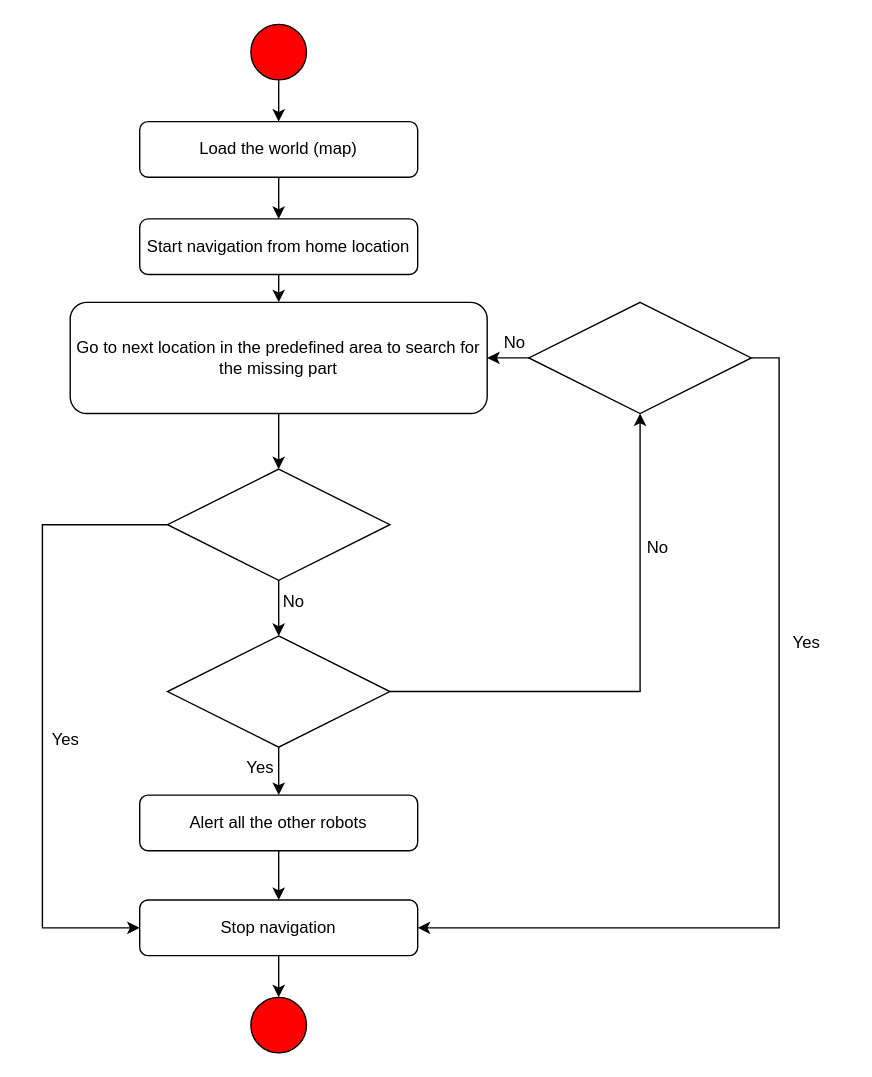
The diagram is 872 pixels wide and 1077 high, and some of its shapes have lost their labels. Each missing label, with the centre of its shape:
"global_move_flag = True?" belongs at (639,357).
"Part found?" belongs at (278,691).
"Reached goal?" belongs at (278,524).
